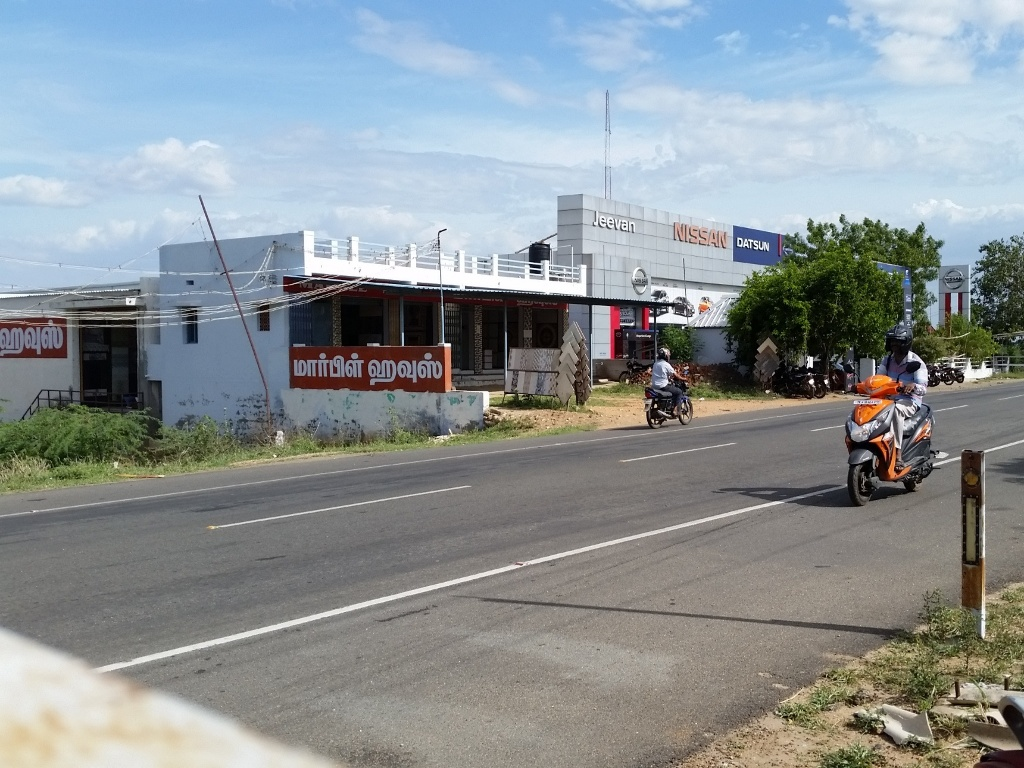biker: (822, 296, 952, 517), (630, 319, 711, 439)
helmet: (880, 318, 918, 363), (652, 338, 676, 370)
